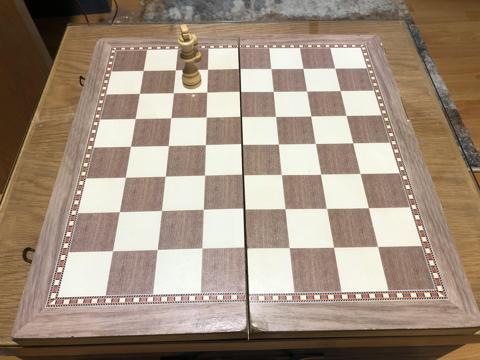xcorner: (297, 62, 309, 74), (233, 63, 245, 75), (170, 64, 182, 76), (334, 84, 346, 96), (301, 85, 313, 97), (267, 85, 279, 97), (234, 86, 246, 98), (167, 87, 179, 99), (134, 87, 146, 99), (340, 109, 352, 121), (270, 110, 282, 122), (200, 111, 212, 123), (354, 167, 366, 179), (315, 168, 327, 180), (276, 168, 288, 180), (158, 170, 170, 182), (119, 171, 131, 183), (362, 202, 374, 214), (321, 202, 333, 214), (279, 203, 291, 215), (196, 204, 208, 216), (113, 205, 125, 217), (327, 241, 339, 253), (283, 242, 295, 254), (239, 243, 251, 255), (150, 244, 162, 256), (106, 245, 118, 257), (329, 62, 340, 74), (265, 63, 277, 74), (138, 65, 150, 76), (201, 86, 212, 98), (305, 110, 317, 121), (235, 111, 247, 122), (130, 112, 141, 124), (310, 137, 321, 149), (236, 138, 247, 150), (199, 139, 210, 151), (162, 139, 173, 151), (125, 140, 136, 152), (237, 169, 248, 181), (197, 170, 209, 181), (155, 205, 166, 217), (372, 241, 383, 253), (195, 243, 206, 255), (202, 64, 213, 75), (165, 112, 176, 123), (347, 137, 358, 148), (273, 138, 284, 149), (238, 204, 249, 215)
